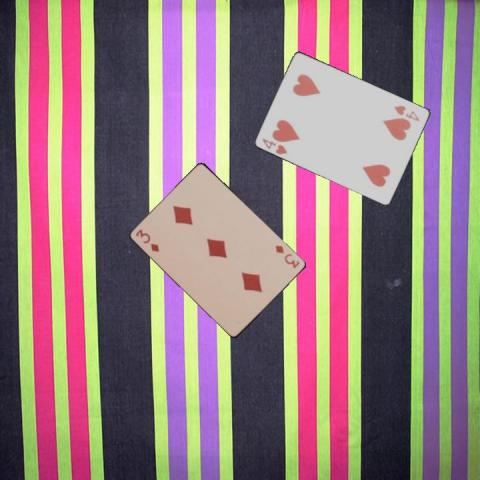3d: (132, 226, 161, 253), (273, 242, 301, 269)
4h: (259, 135, 289, 156), (392, 102, 422, 122)
